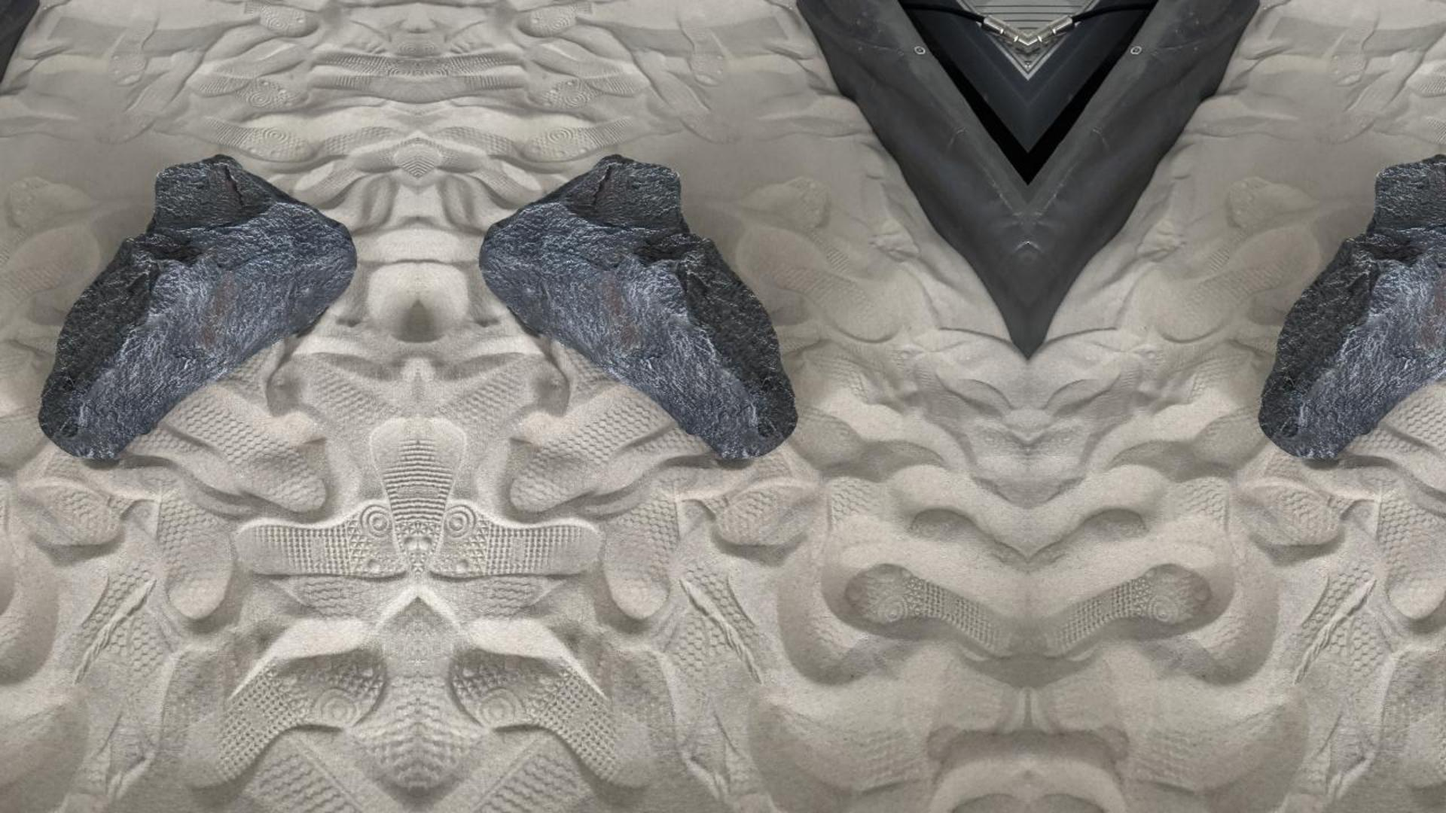rock: (38, 155, 356, 458), (479, 155, 796, 458), (1258, 156, 1445, 457)
